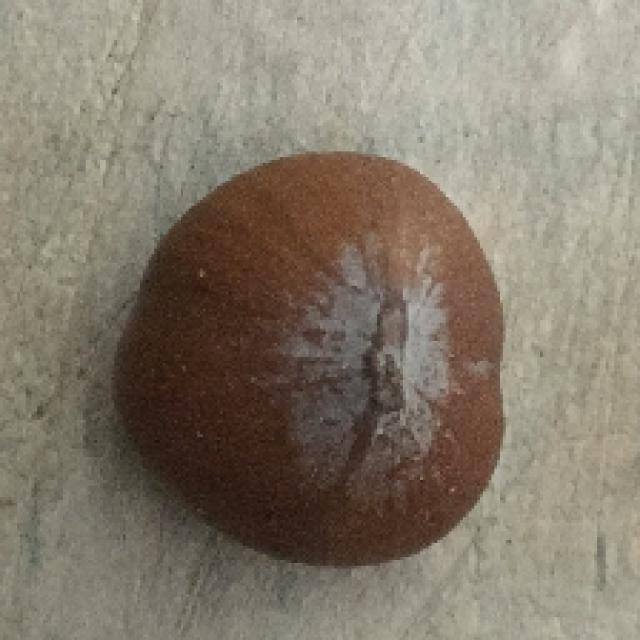qualityHazelnut: (124, 147, 507, 560)
